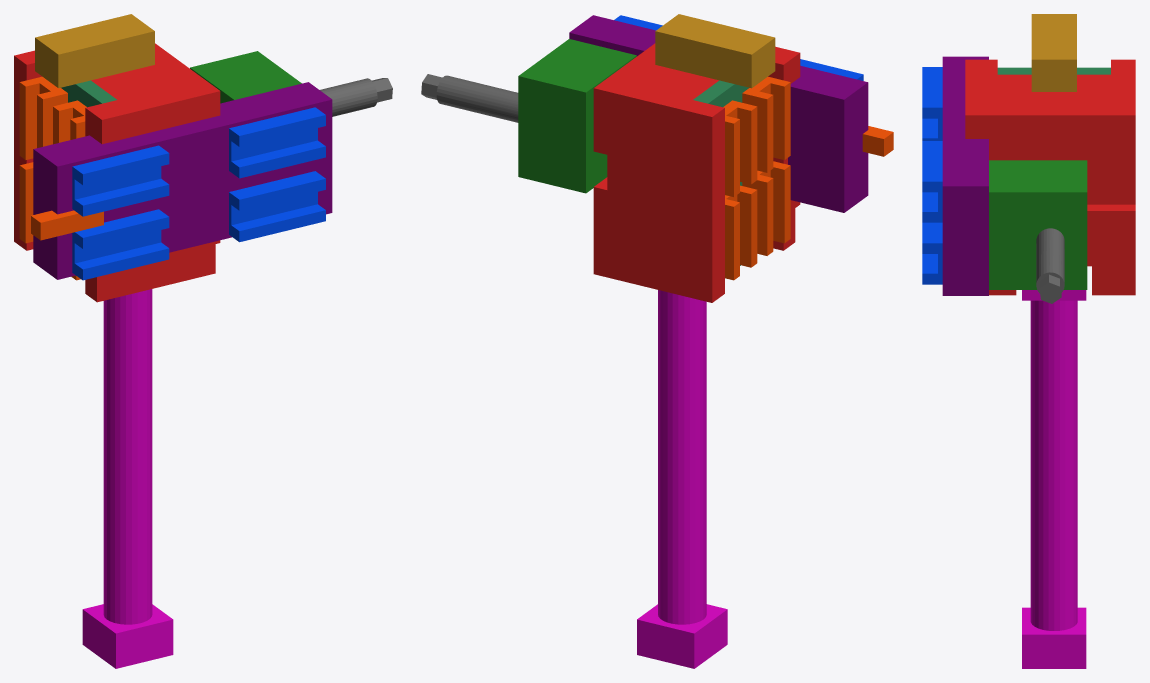
The model's file is dayamam_kizak_arka3.glb.
3 views of the same model, side by side, from view 1: azimuth 30°, elevation 25°; view 2: azimuth 150°, elevation 25°; view 3: azimuth 270°, elevation 25° (orthographic). The views are drawn at different scales.
Parts seen in each view (by area): view 1: 03 - 38 - DAYAMA KIZAK ON KAFA, 03 - 16 - DAYAMA TA\X2\015E\X0\IYICI, 03 - 08 - KIZAK TA\X2\015E\X0\IYICI BA\X2\011E\X0\LANTI PAR\ (×3), 03 - 16 - DAYAMA TA\X2\015E\X0\IYICI003, 03 - 09 - DAYAMA G\X\D6VDE010, 03 - 09 - DAYAMA G\X\D6VDE012, 03 - 15 - DAYAMA KOL V\X2\0130\X0\DASI DESTEK002, 03 - 09 - DAYAMA G\X\D6VDE020, 03 - 16 - DAYAMA TA\X2\015E\X0\IYICI004, 03 - 38 - DAYAMA KIZAK ON KAFA006, 03 - 38- DAYAMA V\X2\0130\X0\DASI010, 03 - 09 - DAYAMA G\X\D6VDE009 (+27 smaller); view 2: 03 - 09 - DAYAMA G\X\D6VDE019, 03 - 38 - DAYAMA KIZAK ON KAFA, 03 - 15 - DAYAMA KOL V\X2\0130\X0\DASI DESTEK001, 03 - 16 - DAYAMA TA\X2\015E\X0\IYICI002, 03 - 08 - KIZAK TA\X2\015E\X0\IYICI BA\X2\011E\X0\LANTI PAR\ (×3), 03 - 09 - DAYAMA G\X\D6VDE010, 03 - 15 - DAYAMA KOL V\X2\0130\X0\DASI DESTEK002, 03 - 16 - DAYAMA TA\X2\015E\X0\IYICI003, 03 - 16 - DAYAMA TA\X2\015E\X0\IYICI004, 03 - 38- DAYAMA V\X2\0130\X0\DASI010, 03 - 09 - DAYAMA G\X\D6VDE009, 03 - 38 - DAYAMA KIZAK ON KAFA008 (+10 smaller); view 3: 03 - 38 - DAYAMA KIZAK ON KAFA, 03 - 09 - DAYAMA G\X\D6VDE014, 03 - 15 - DAYAMA KOL V\X2\0130\X0\DASI DESTEK005, 03 - 09 - DAYAMA G\X\D6VDE010, 03 - 16 - DAYAMA TA\X2\015E\X0\IYICI005, 03 - 16 - DAYAMA TA\X2\015E\X0\IYICI003, 03 - 08 - KIZAK TA\X2\015E\X0\IYICI BA\X2\011E\X0\LANTI PAR\ (×2), 03 - 15 - DAYAMA KOL V\X2\0130\X0\DASI DESTEK002, 03 - 38 - DAYAMA KIZAK ON KAFA004, 03 - 09 - DAYAMA G\X\D6VDE018, 03 - 38- DAYAMA V\X2\0130\X0\DASI010, SOLID073 (+11 smaller).
Part boxes in pixels (<box>): 03 - 38 - DAYAMA KIZAK ON KAFA: <box>103,289,152,624</box>; 03 - 16 - DAYAMA TA\X2\015E\X0\IYICI: <box>57,99,332,279</box>; 03 - 08 - KIZAK TA\X2\015E\X0\IYICI BA\X2\011E\X0\LANTI PAR\ (×3): <box>35,14,154,88</box>; 03 - 16 - DAYAMA TA\X2\015E\X0\IYICI003: <box>34,82,331,166</box>; 03 - 09 - DAYAMA G\X\D6VDE010: <box>14,43,219,119</box>; 03 - 09 - DAYAMA G\X\D6VDE012: <box>97,244,215,302</box>; 03 - 15 - DAYAMA KOL V\X2\0130\X0\DASI DESTEK002: <box>190,51,301,99</box>; 03 - 09 - DAYAMA G\X\D6VDE020: <box>102,91,220,144</box>; 03 - 16 - DAYAMA TA\X2\015E\X0\IYICI004: <box>33,149,57,279</box>; 03 - 38 - DAYAMA KIZAK ON KAFA006: <box>116,619,173,668</box>; 03 - 38- DAYAMA V\X2\0130\X0\DASI010: <box>320,78,377,116</box>; 03 - 09 - DAYAMA G\X\D6VDE009: <box>14,56,26,250</box>; 03 - 09 - DAYAMA G\X\D6VDE019: <box>593,88,712,302</box>; 03 - 38 - DAYAMA KIZAK ON KAFA: <box>658,290,706,624</box>; 03 - 15 - DAYAMA KOL V\X2\0130\X0\DASI DESTEK001: <box>518,76,585,193</box>; 03 - 16 - DAYAMA TA\X2\015E\X0\IYICI002: <box>569,32,844,212</box>; 03 - 08 - KIZAK TA\X2\015E\X0\IYICI BA\X2\011E\X0\LANTI PAR\ (×3): <box>655,14,775,88</box>; 03 - 09 - DAYAMA G\X\D6VDE010: <box>594,43,799,116</box>; 03 - 15 - DAYAMA KOL V\X2\0130\X0\DASI DESTEK002: <box>519,39,636,92</box>; 03 - 16 - DAYAMA TA\X2\015E\X0\IYICI003: <box>569,15,867,99</box>; 03 - 16 - DAYAMA TA\X2\015E\X0\IYICI004: <box>844,82,868,212</box>; 03 - 38- DAYAMA V\X2\0130\X0\DASI010: <box>436,75,518,122</box>; 03 - 09 - DAYAMA G\X\D6VDE009: <box>712,108,724,302</box>; 03 - 38 - DAYAMA KIZAK ON KAFA008: <box>637,619,694,668</box>; 03 - 38 - DAYAMA KIZAK ON KAFA: <box>1030,300,1077,630</box>; 03 - 09 - DAYAMA G\X\D6VDE014: <box>965,115,1135,295</box>; 03 - 15 - DAYAMA KOL V\X2\0130\X0\DASI DESTEK005: <box>989,192,1087,289</box>; 03 - 09 - DAYAMA G\X\D6VDE010: <box>965,59,1135,115</box>; 03 - 16 - DAYAMA TA\X2\015E\X0\IYICI005: <box>942,186,988,295</box>; 03 - 16 - DAYAMA TA\X2\015E\X0\IYICI003: <box>942,56,988,186</box>; 03 - 08 - KIZAK TA\X2\015E\X0\IYICI BA\X2\011E\X0\LANTI PAR\ (×2): <box>1031,14,1076,91</box>; 03 - 15 - DAYAMA KOL V\X2\0130\X0\DASI DESTEK002: <box>989,160,1087,192</box>; 03 - 38 - DAYAMA KIZAK ON KAFA004: <box>1022,634,1086,668</box>; 03 - 09 - DAYAMA G\X\D6VDE018: <box>1087,176,1135,204</box>; 03 - 38- DAYAMA V\X2\0130\X0\DASI010: <box>1036,228,1064,283</box>; SOLID073: <box>922,67,942,107</box>.
Size of the model in its own units: 0.4805 by 0.704 by 0.2255.
